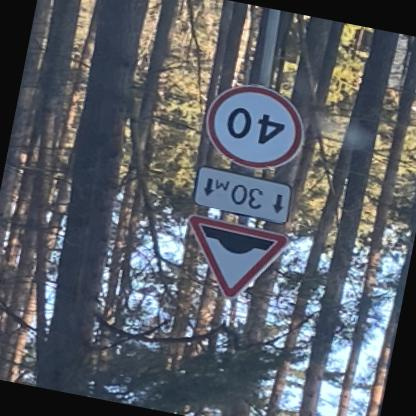speedlimit: (199, 78, 314, 178)
